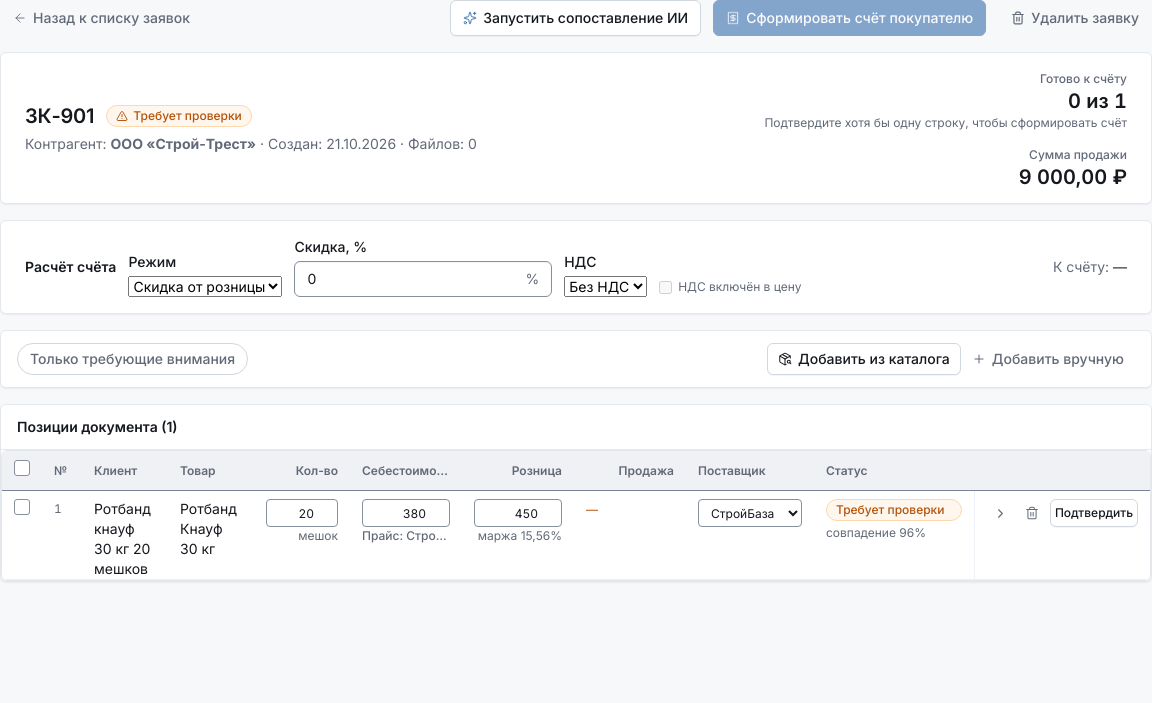
Таблица позиций документа › при наличии вопросов показывает их один раз, без дубля пояснения ИИ
What coordinates should you click on to do the following:
click the button named "Подробнее о поз. 1"
I would click on:
 (1000, 513)
Its box is [986,499,1014,527].
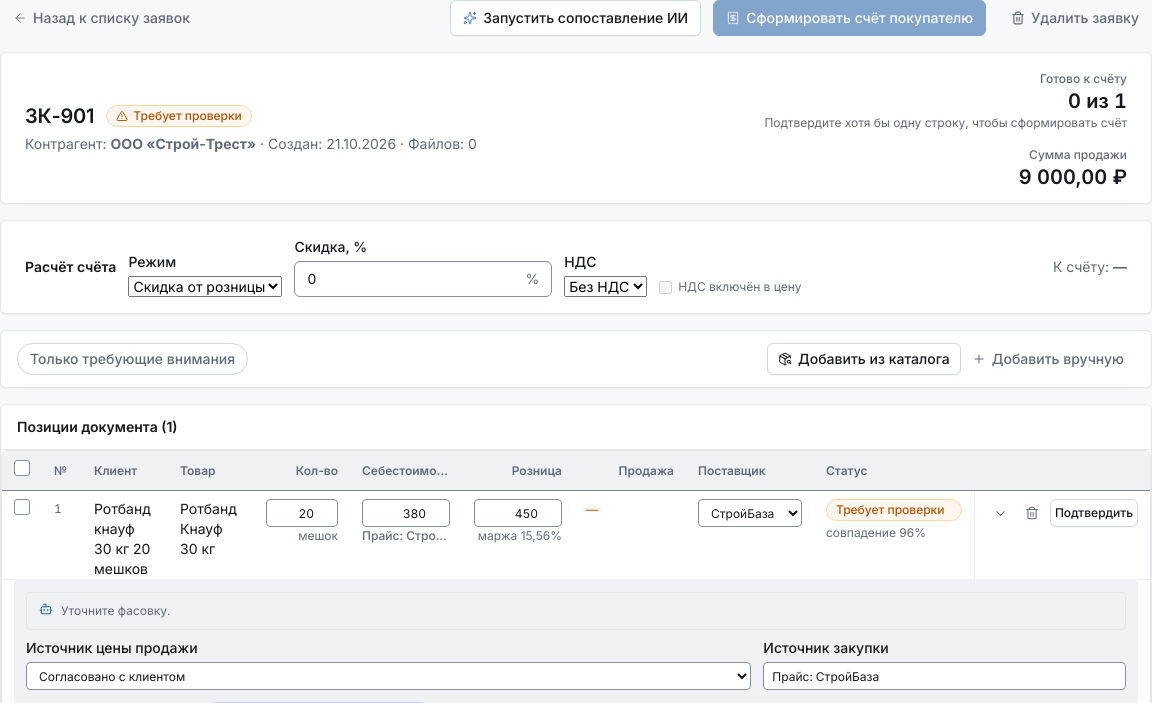
Check: the text "Уточните фасовку." is shown, box [61,601,170,621]
